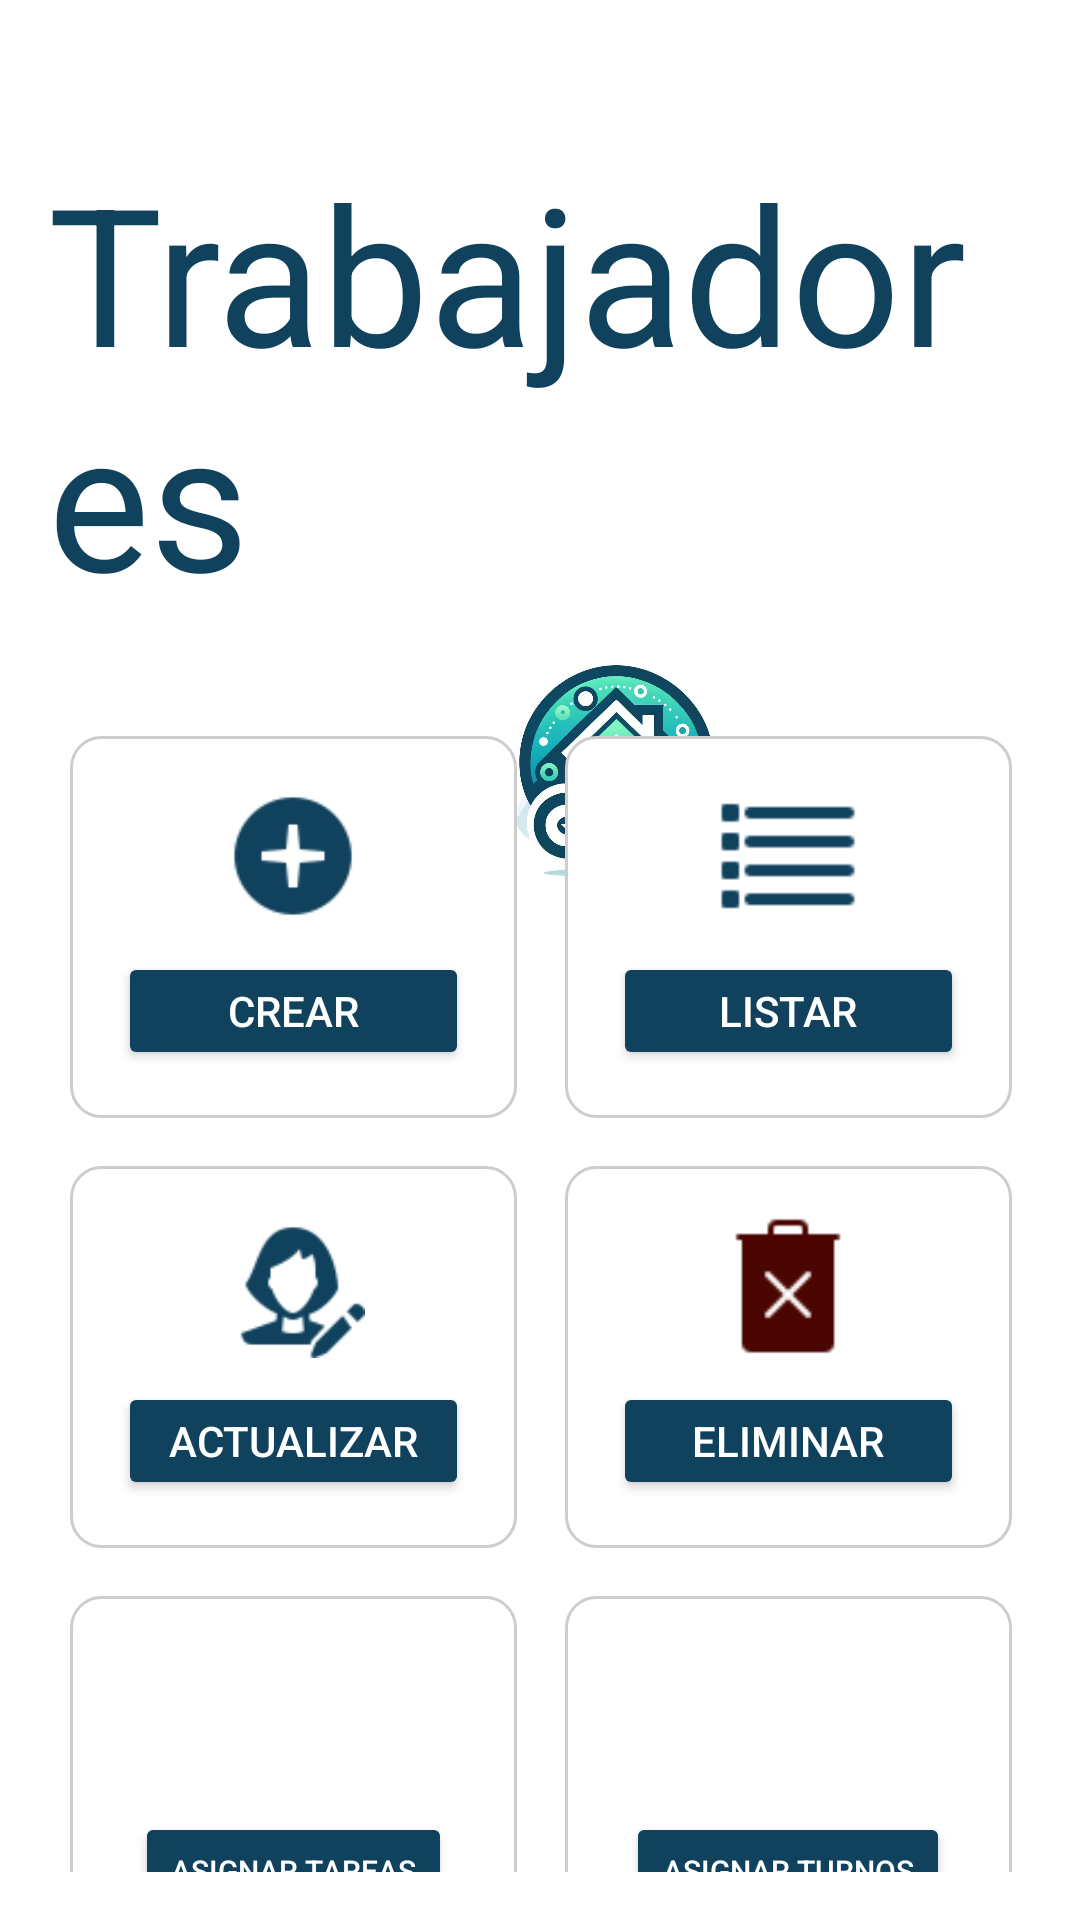

Icon bounding boxes for this 1080px x 1920px phone screenshot, format (x1, y1, x2, y2):
add: (234, 797, 352, 915)
borrar: (735, 1219, 841, 1353)
editar usuario: (240, 1227, 365, 1358)
